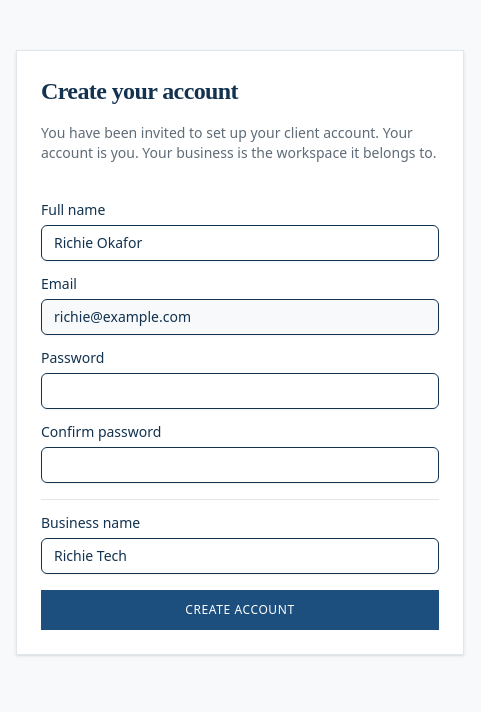
Test: onboarding screen (invitation only) › shows the server's message and stays put when the invitation cannot be used
Type "correct horse 42" into the password field labelled "Password".
click(240, 390); type("correct horse 42")  # box [41,372,439,408]
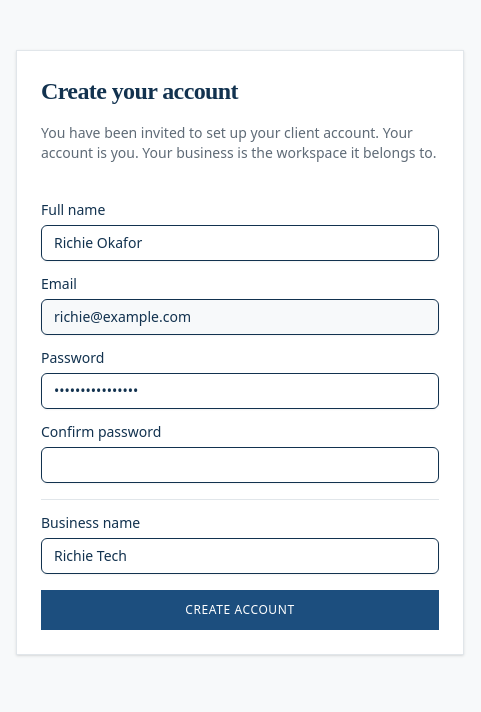
Type "correct horse 42" into the password field labelled "Confirm password".
click(240, 464); type("correct horse 42")  # box [41,446,439,482]
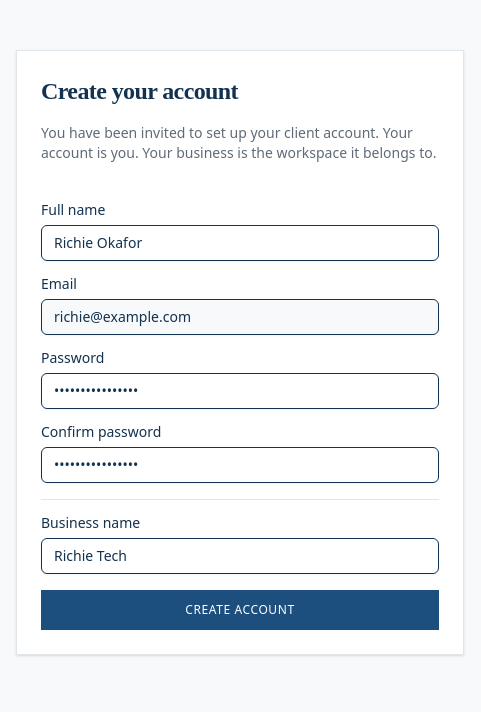
Click the button "Create account".
click(240, 610)  # box [41,590,439,630]
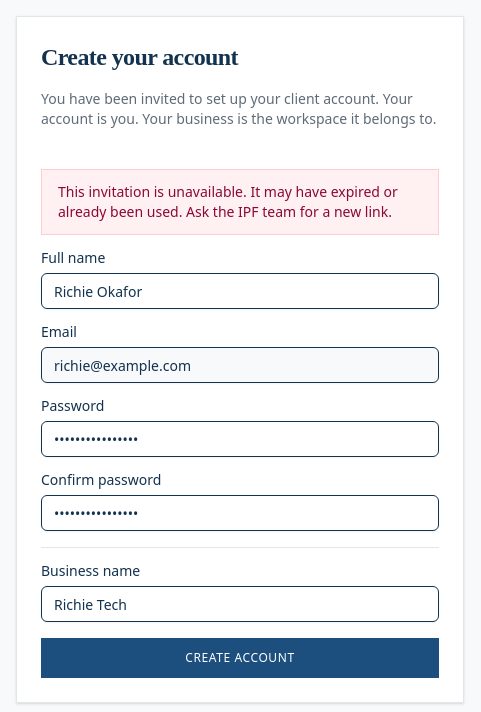
Check: the message shows "unavailable", box [58,182,398,221]
